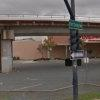Bridge: (3, 7, 97, 48)
